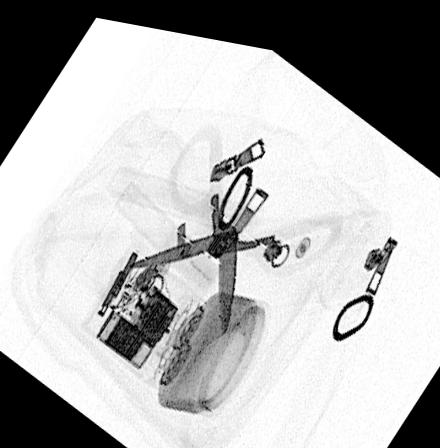Scissors: (127, 113, 342, 329)
